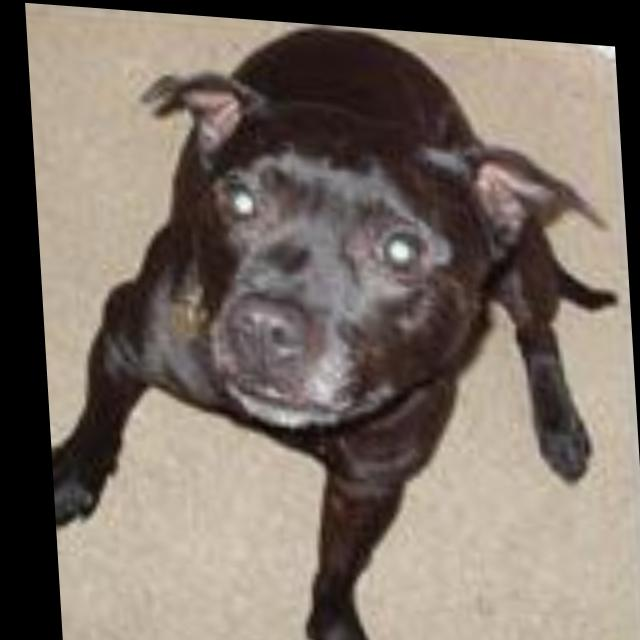staffford: (27, 3, 633, 640)
